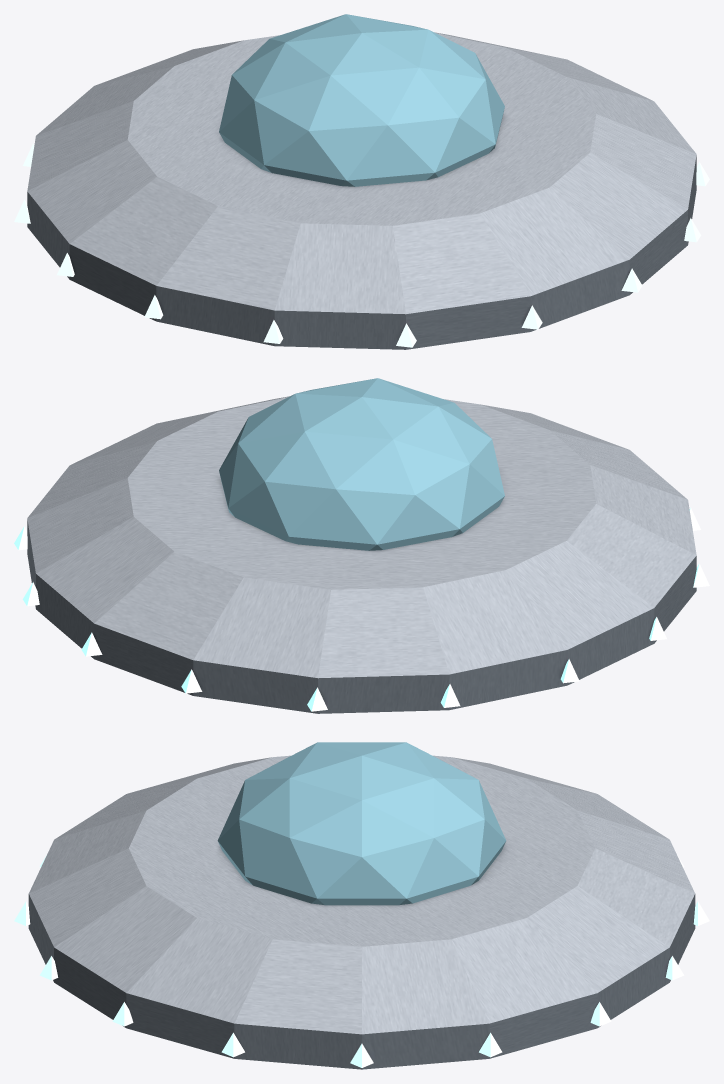
The model's file is ufo_tex.glb.
The picture shows the model from 3 angles, top to bottom: view 1: azimuth 30°, elevation 25°; view 2: azimuth 150°, elevation 25°; view 3: azimuth 270°, elevation 25°; orthographic projection.
Parts seen in each view (by area): view 1: ufo; view 2: ufo; view 3: ufo.
Part boxes in pixels (x1=…): ufo: x1=14, y1=14, x2=709, y2=349; ufo: x1=14, y1=378, x2=709, y2=713; ufo: x1=14, y1=742, x2=709, y2=1069.
Bounding box in the file's own units: 12.53 × 4.24 × 12.53.
Materials: 4 (2 with a texture image).
